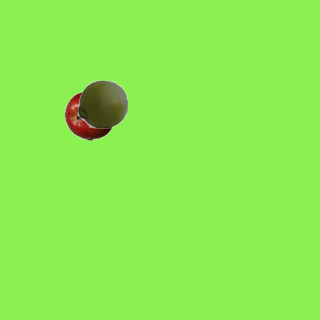Apple Braeburn: (64, 90, 114, 140)
Grape White 4: (77, 78, 127, 128)
